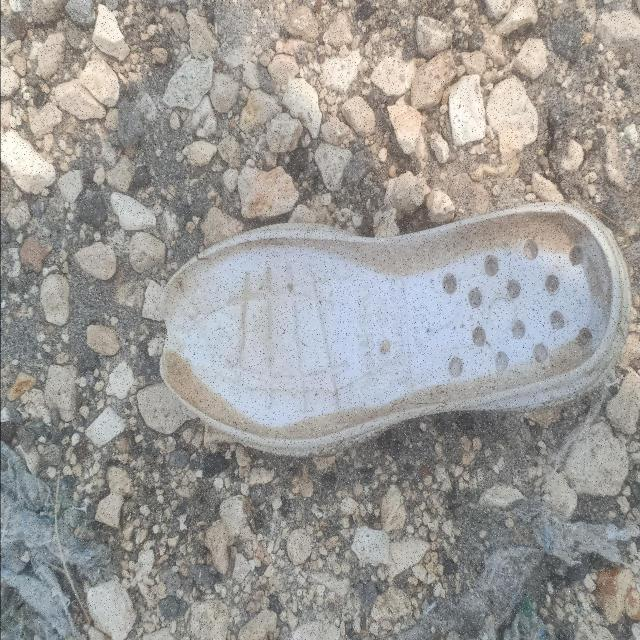rubber_waste: (156, 199, 635, 462)
